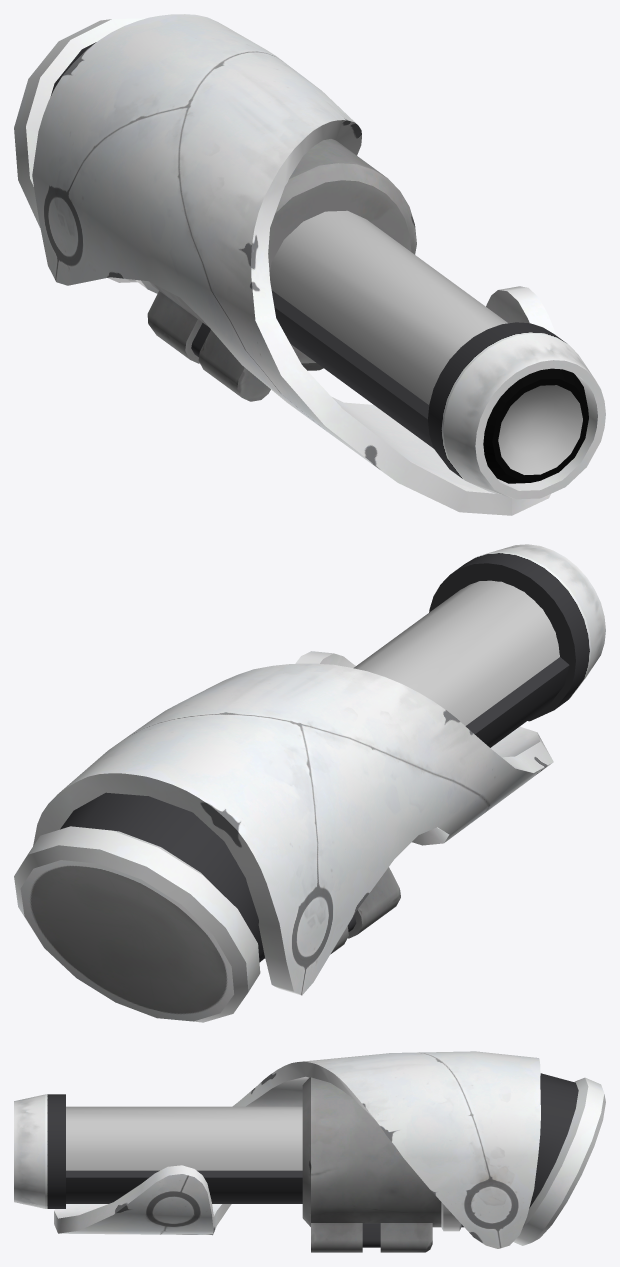
File: Gun2.obj
3 renders of one model, top to bottom at view 1: azimuth 30°, elevation 25°; view 2: azimuth 150°, elevation 25°; view 3: azimuth 270°, elevation 25°, orthographic. The views are drawn at different scales.
Parts seen in each view (by area): view 1: NewGunStatic001_1, NewGunStatic001_2, NewGunStatic001_3; view 2: NewGunStatic001_1, NewGunStatic001_2; view 3: NewGunStatic001_1, NewGunStatic001_2.
Part boxes in pixels (x1=…): NewGunStatic001_1: x1=14, y1=14, x2=605, y2=515; NewGunStatic001_2: x1=269, y1=210, x2=507, y2=404; NewGunStatic001_3: x1=498, y1=385, x2=582, y2=474; NewGunStatic001_1: x1=14, y1=544, x2=605, y2=1022; NewGunStatic001_2: x1=353, y1=580, x2=559, y2=725; NewGunStatic001_1: x1=14, y1=1051, x2=605, y2=1252; NewGunStatic001_2: x1=66, y1=1106, x2=302, y2=1170.
Bounding box in the file's own units: 20.31 × 20.34 × 62.13.
